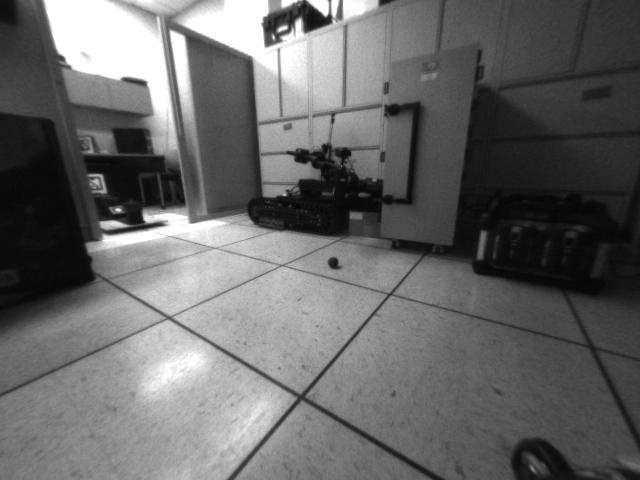dogtoy: (323, 253, 344, 271)
